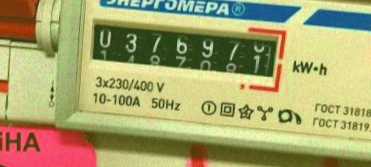0: (96, 25, 114, 47)
1: (250, 52, 263, 74)
3: (123, 29, 139, 53)
6: (175, 31, 190, 53)
7: (149, 28, 164, 53), (225, 37, 240, 61)
9: (200, 35, 214, 58)
screen: (81, 10, 289, 95)
